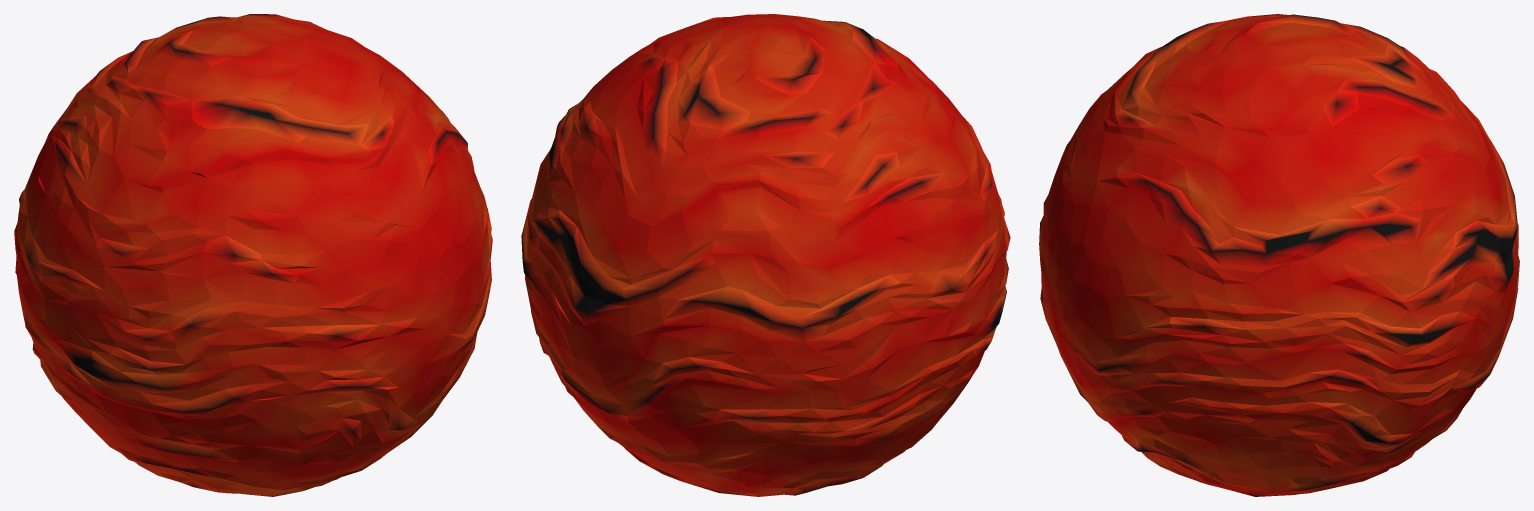
The model's file is volcanic_planet_2.fbx.
3 renders of one model, left to right at view 1: azimuth 30°, elevation 25°; view 2: azimuth 150°, elevation 25°; view 3: azimuth 270°, elevation 25°, orthographic.
Visible parts, largest first — view 1: filecache2; view 2: filecache2; view 3: filecache2.
Boxes of the visible parts, x1,y1,x2,y2 form: filecache2: [14, 14, 492, 496]; filecache2: [521, 14, 1010, 496]; filecache2: [1039, 14, 1519, 496].
Size of the model in its own units: 2.01 by 2.01 by 2.01.
